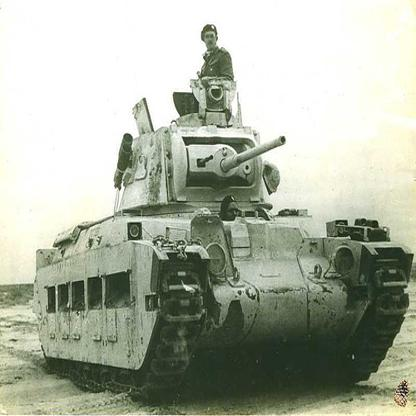Tank: (33, 78, 416, 416)
